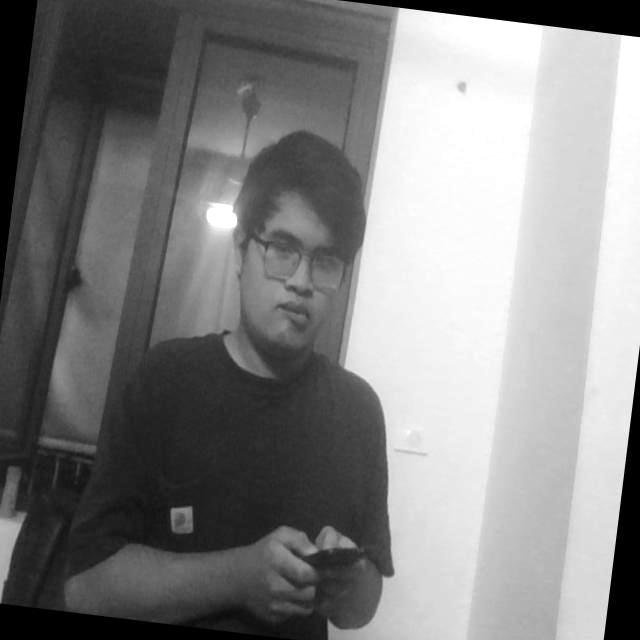phone: (264, 524, 376, 612)
